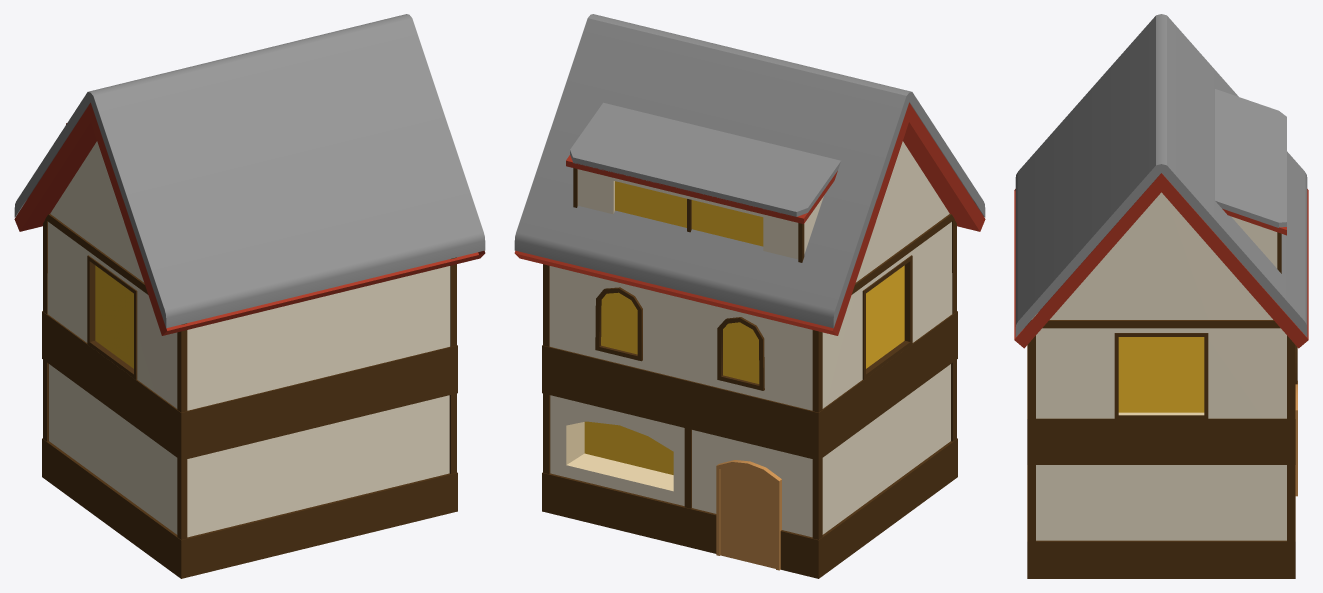
Rendered from hosue_2.fbx.
3 views of the same model, side by side, from view 1: azimuth 30°, elevation 25°; view 2: azimuth 150°, elevation 25°; view 3: azimuth 270°, elevation 25° (orthographic). The views are drawn at different scales.
Visible parts, largest first — view 1: Object005, Object063, Object050; view 2: Object005, Object063, Object050, Object003; view 3: Object005, Object063, Object050, Object003.
Part boxes in pixels (<box>): Object005: <box>14,102,485,578</box>; Object063: <box>14,14,485,328</box>; Object050: <box>95,265,133,368</box>; Object005: <box>515,102,985,578</box>; Object063: <box>514,14,985,328</box>; Object050: <box>584,181,904,474</box>; Object003: <box>514,250,833,330</box>; Object005: <box>1014,173,1308,578</box>; Object063: <box>1015,14,1307,337</box>; Object050: <box>1118,337,1204,412</box>; Object003: <box>1038,173,1308,339</box>.
Size of the model in its own units: 38.52 by 50.85 by 31.96.
